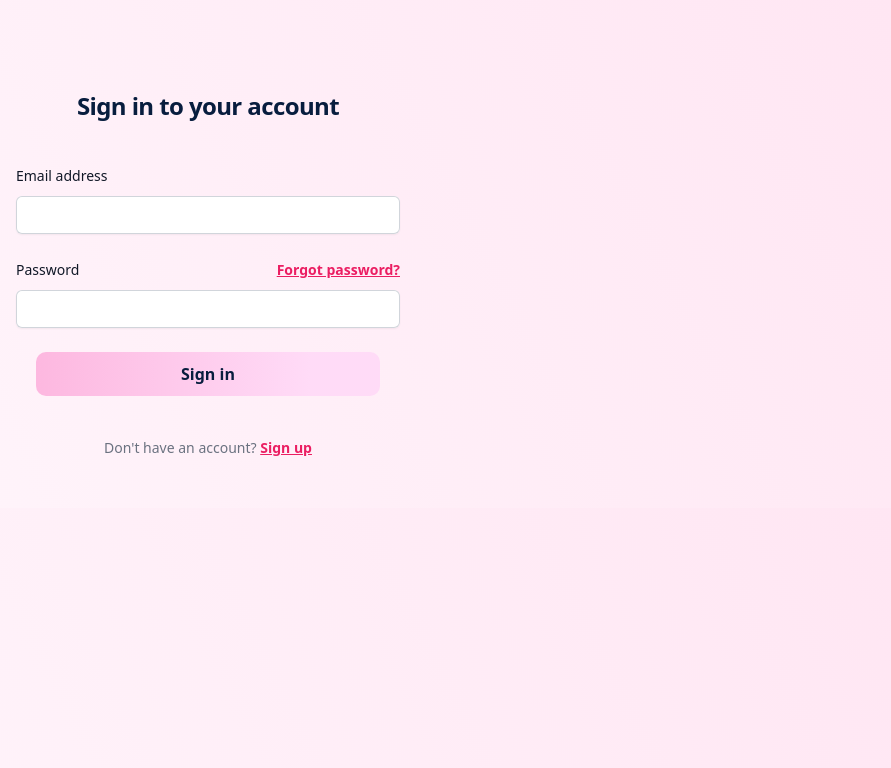
LoginPane Component › shows error message for invalid inputs
Click the button "Sign in". click: (208, 374)
box: 36,352 -> 380,396
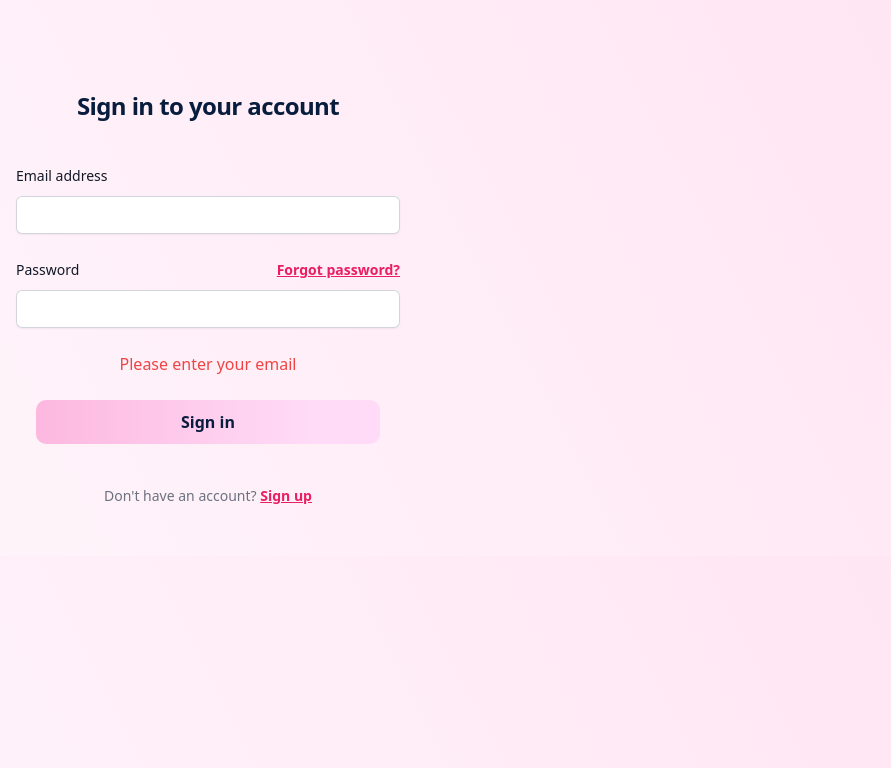
Now the heading "Please enter your email" is shown, box 120,352 -> 296,376
